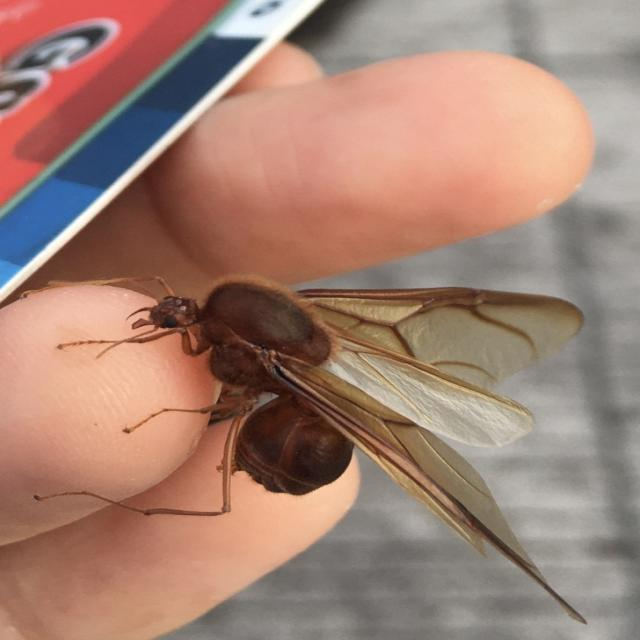Alive-Male-Alate: (18, 273, 588, 625)
